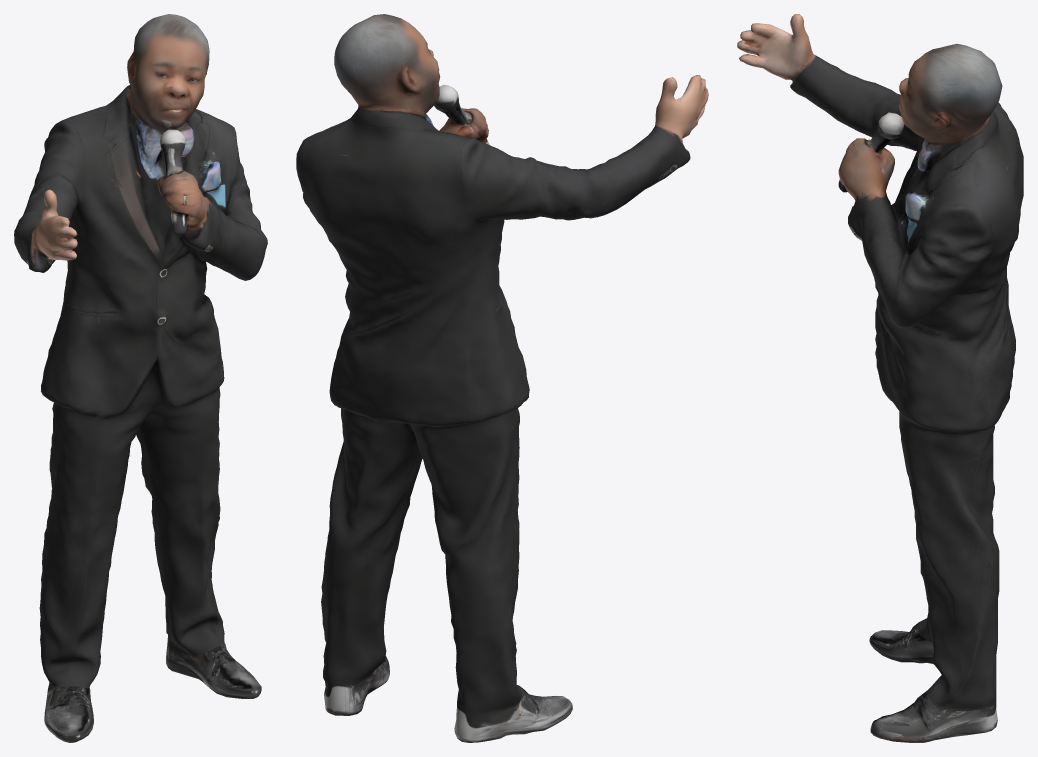
Rendered from DJ_BRENTON_0311051719_texture.glb.
3 views of the same model, side by side, from view 1: azimuth 30°, elevation 25°; view 2: azimuth 150°, elevation 25°; view 3: azimuth 270°, elevation 25° (orthographic). The views are drawn at different scales.
Visible parts, largest first — view 1: Mesh_0; view 2: Mesh_0; view 3: Mesh_0.
Part boxes in pixels (x1=…): Mesh_0: x1=14, y1=14, x2=267, y2=742; Mesh_0: x1=296, y1=14, x2=708, y2=742; Mesh_0: x1=737, y1=14, x2=1023, y2=742.
Bounding box in the file's own units: 0.8374 × 1.83 × 0.7097.
Materials: 1 (1 with a texture image).
